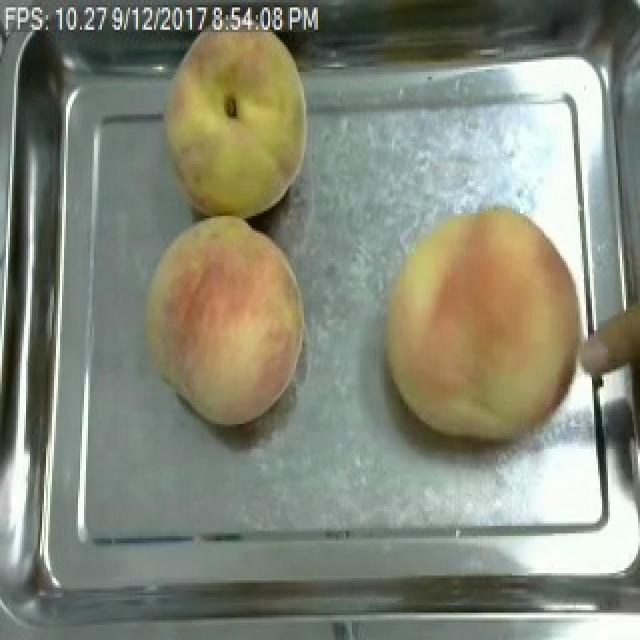Fruit: (370, 196, 590, 454), (134, 208, 314, 432), (152, 12, 318, 224)
